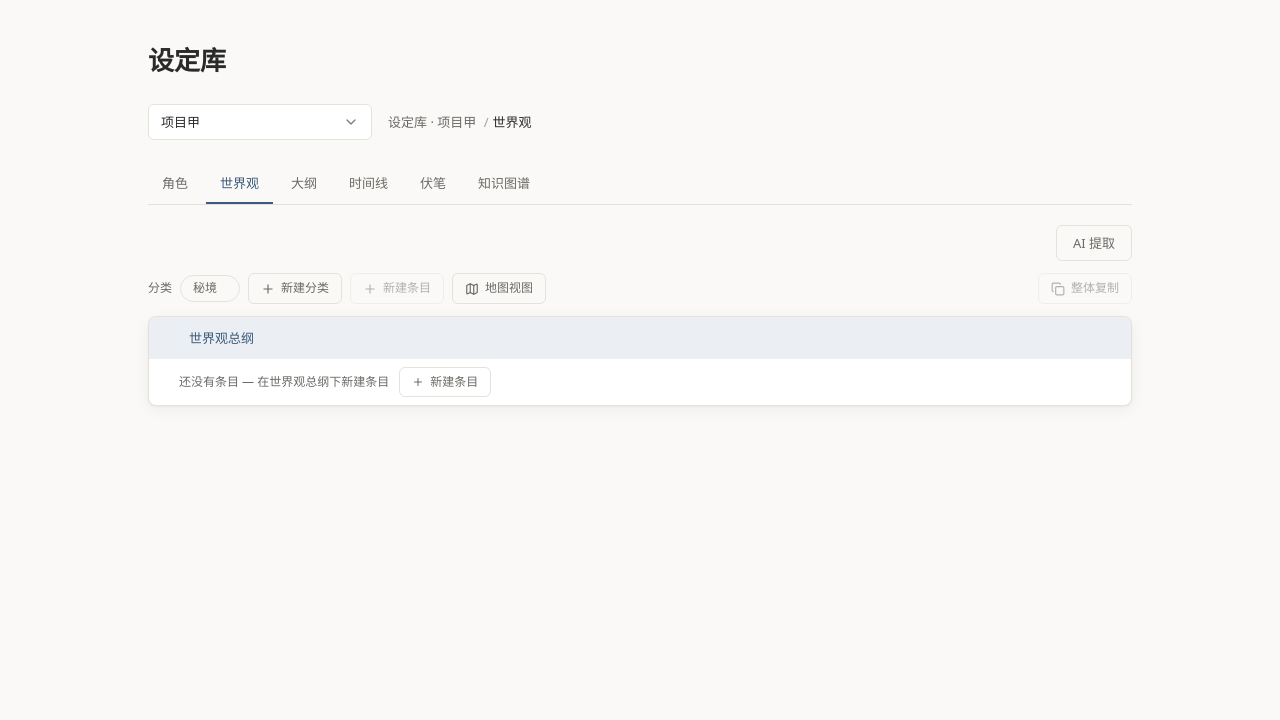
设定库页 — 世界观首开语义（#1494） › ③ 首开（已有分类）：引导行 CTA = 新建条目 → 对话框为非根语义（类别必填 + 红字 + 保存禁用）
Expected: the element with test id "world-first-open-hint" is shown, [179,367,491,397]
What coordinates should you click on to do the following:
click the button with test id "world-first-open-cta"
I would click on:
 (445, 382)
Its box is [399,367,491,397].
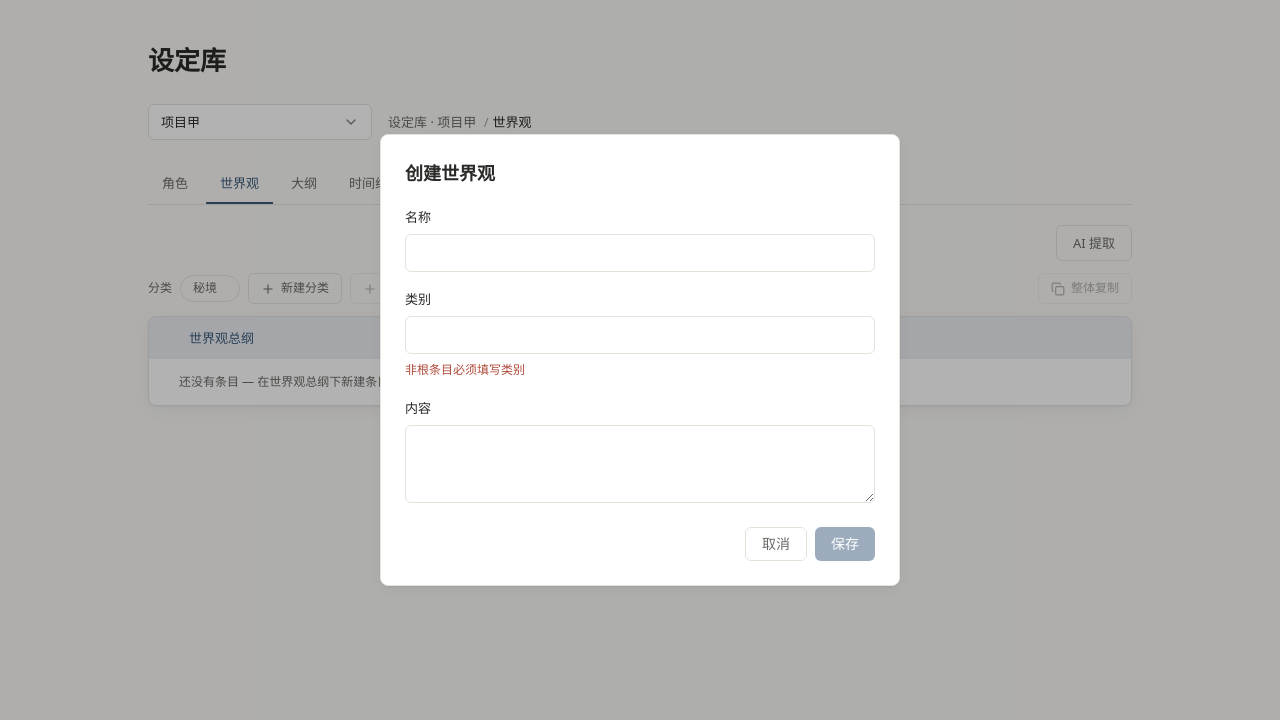
Now the dialog with test id "library-create-dialog" is shown, box [380,134,900,586]
Now the text "非根条目必须填写类别" is shown, box [405,361,525,378]
Now the button with test id "library-create-save" is disabled, box [815,527,875,561]
